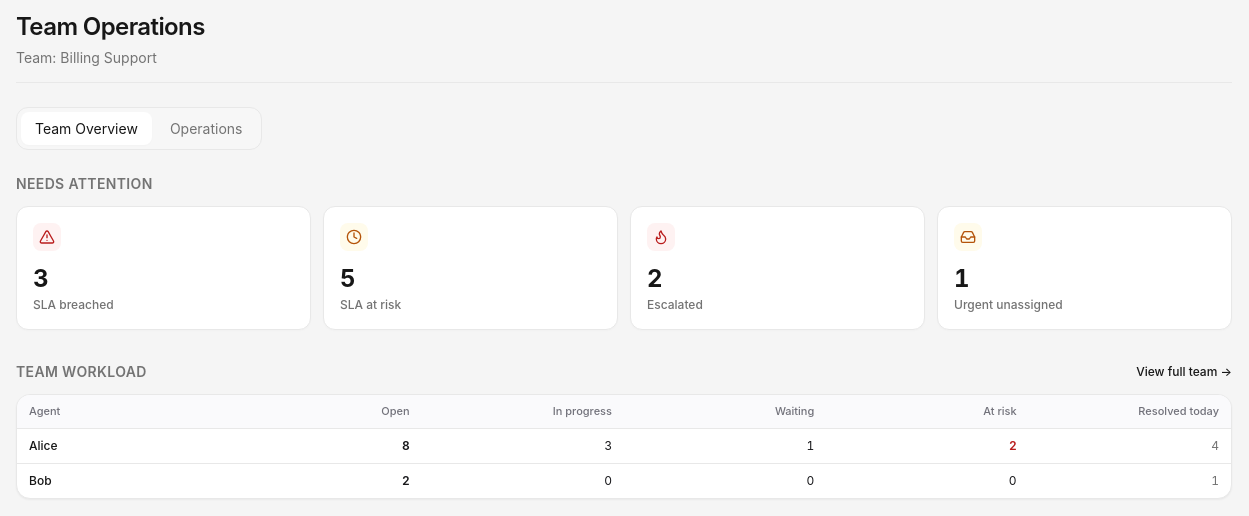
ManagerOverviewPage › renders operational KPIs on the Operations tab
Click the tab "Operations". click: (206, 128)
box: [156,112,256,145]
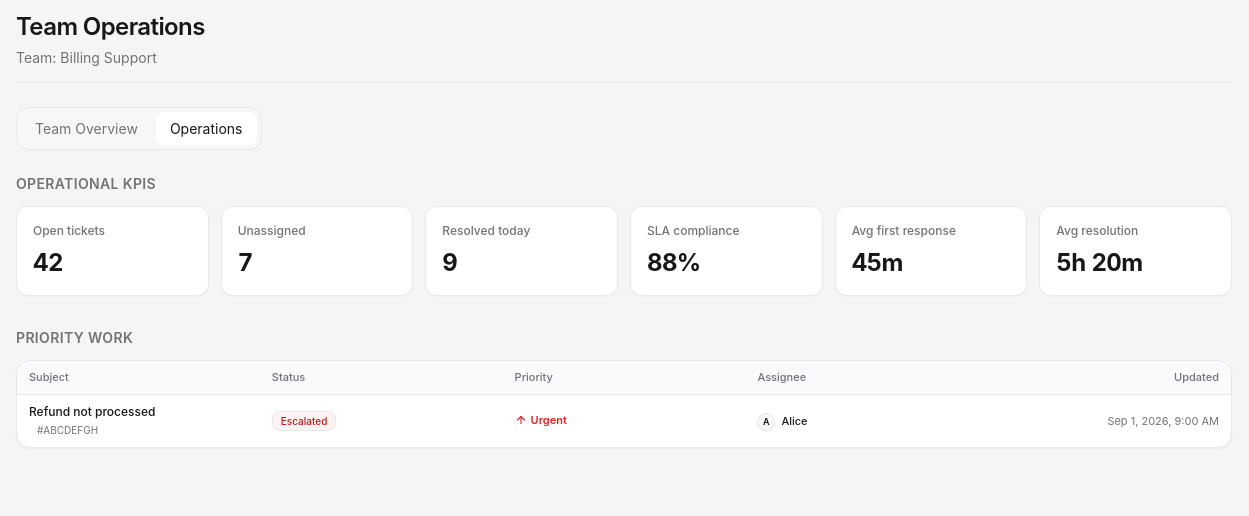
Now the text "Open tickets" is shown, box [33,223,105,239]
Now the text "42" is shown, box [33,247,63,279]
Now the text "88%" is shown, box [647,247,701,279]
